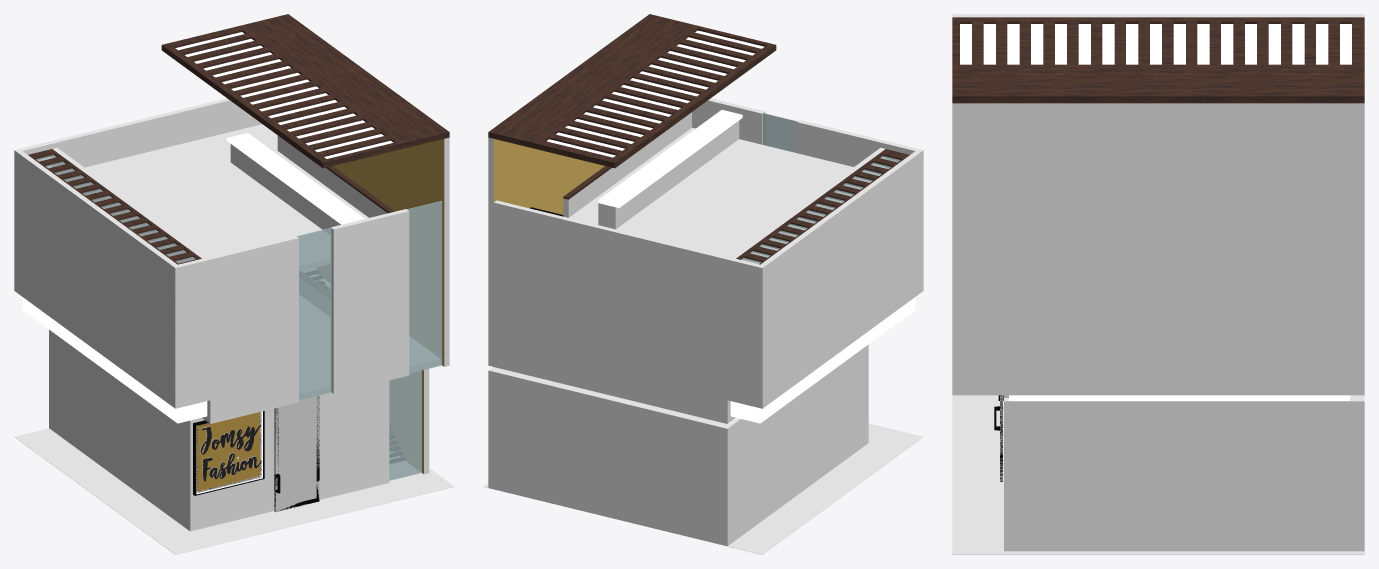
The model's file is jomsyfashion_building_009.glb.
The picture shows the model from 3 angles, left to right: view 1: azimuth 30°, elevation 25°; view 2: azimuth 150°, elevation 25°; view 3: azimuth 270°, elevation 25°; orthographic projection. The views are drawn at different scales.
Visible parts, largest first — view 1: P1_extwall, P0_extwall, RF_pergola, P2_floor, P0_plot_floor, P1_glass_01, P1_glass_02, Cube.002, P0_jomsyfashion_ext, RF_emissive_interpergola, P0_glass_01, P2_wood_pergola (+8 smaller); view 2: P1_extwall, P0_extwall, RF_pergola, P2_floor, P0_plot_floor, RF_emissive_interpergola, P2_wood_pergola, P2_countertop, P2_railing_03, P1_emission_extcube, P2_railing_01, P2_railing_02 (+2 smaller); view 3: P1_extwall, P0_extwall, RF_pergola, P0_plot_floor, RF_emissive_interpergola, P1_emissive_entrepisos.
Boxes of the visible parts, left/top/right/bottom form: P1_extwall: left=14, top=98, right=449, bottom=423; P0_extwall: left=49, top=329, right=429, bottom=531; RF_pergola: left=161, top=14, right=449, bottom=168; P2_floor: left=85, top=124, right=368, bottom=257; P0_plot_floor: left=14, top=428, right=454, bottom=554; P1_glass_01: left=407, top=200, right=442, bottom=373; P1_glass_02: left=296, top=228, right=331, bottom=400; Cube.002: left=274, top=395, right=319, bottom=511; P0_jomsyfashion_ext: left=193, top=411, right=264, bottom=495; RF_emissive_interpergola: left=175, top=32, right=393, bottom=158; P0_glass_01: left=389, top=370, right=421, bottom=480; P2_wood_pergola: left=28, top=149, right=201, bottom=264; P1_extwall: left=488, top=98, right=923, bottom=423; P0_extwall: left=488, top=344, right=868, bottom=546; RF_pergola: left=488, top=14, right=776, bottom=168; P2_floor: left=569, top=127, right=853, bottom=257; P0_plot_floor: left=483, top=423, right=923, bottom=554; RF_emissive_interpergola: left=547, top=30, right=764, bottom=157; P2_wood_pergola: left=736, top=149, right=909, bottom=264; P2_countertop: left=598, top=110, right=742, bottom=207; P2_railing_03: left=598, top=120, right=739, bottom=229; P1_emission_extcube: left=730, top=297, right=915, bottom=423; P2_railing_01: left=563, top=112, right=691, bottom=217; P2_railing_02: left=731, top=147, right=885, bottom=263; P1_extwall: left=952, top=14, right=1364, bottom=395; P0_extwall: left=1004, top=395, right=1364, bottom=551; RF_pergola: left=952, top=17, right=1364, bottom=103; P0_plot_floor: left=952, top=395, right=1364, bottom=554; RF_emissive_interpergola: left=960, top=24, right=1351, bottom=64; P1_emissive_entrepisos: left=1009, top=395, right=1350, bottom=400.
Size of what is drawn, in the model's own units: 16 by 19.49 by 16.
10 materials, 8 textured.
